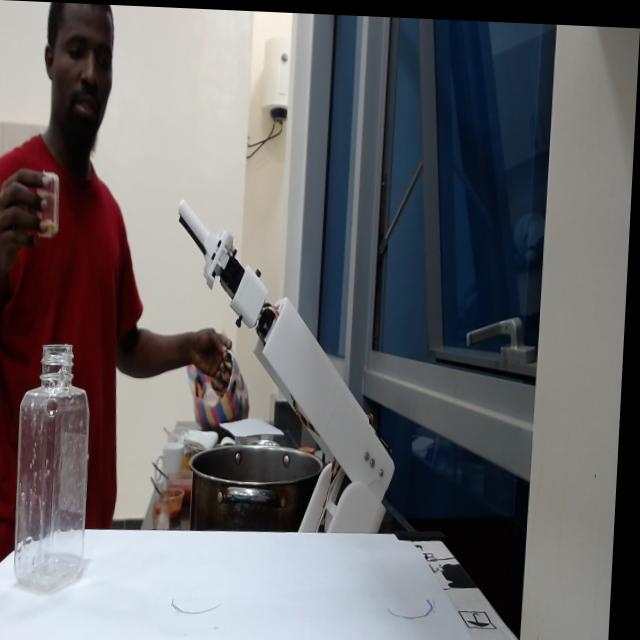cooking_pot: (190, 435, 330, 531)
